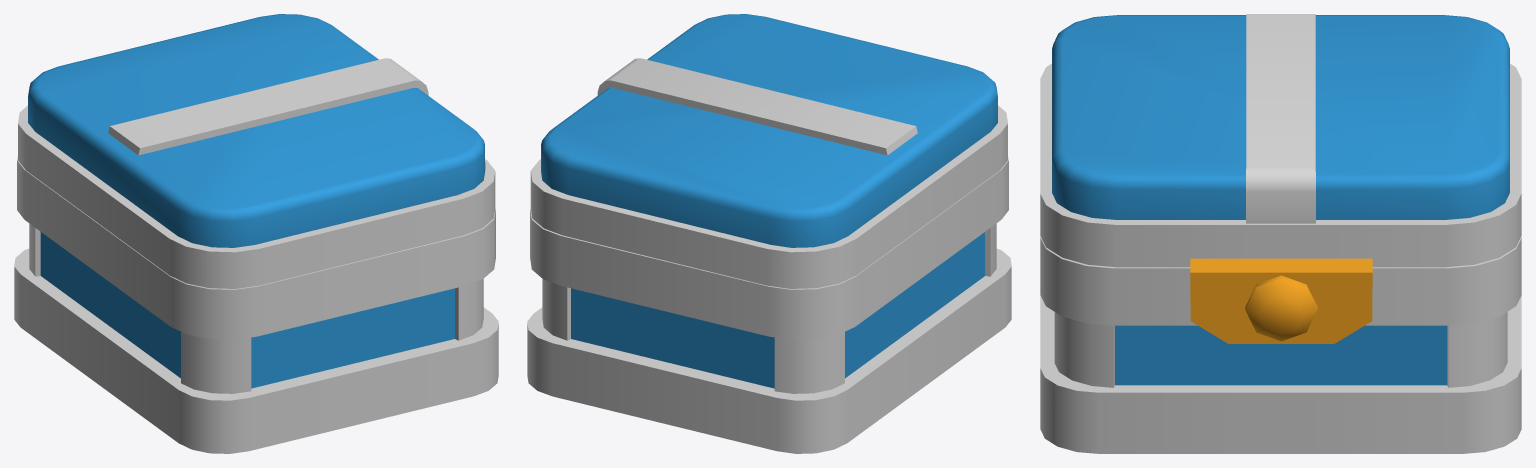
Rendered from ChestRegular.fbx.
3 renders of one model, left to right at view 1: azimuth 30°, elevation 25°; view 2: azimuth 150°, elevation 25°; view 3: azimuth 270°, elevation 25°, orthographic. The views are drawn at different scales.
Parts seen in each view (by area): view 1: Cube.050, Cube.035; view 2: Cube.050, Cube.035; view 3: Cube.050, Cube.035, Cube.051.
Part boxes in pixels (x1,y1,x2,y2): Cube.050: [18, 14, 495, 288]; Cube.035: [14, 156, 498, 453]; Cube.050: [530, 14, 1007, 288]; Cube.035: [527, 156, 1011, 453]; Cube.050: [1040, 14, 1521, 267]; Cube.035: [1040, 236, 1521, 453]; Cube.051: [1190, 258, 1372, 343].
Size of the model in its own units: 160 by 104 by 163.
